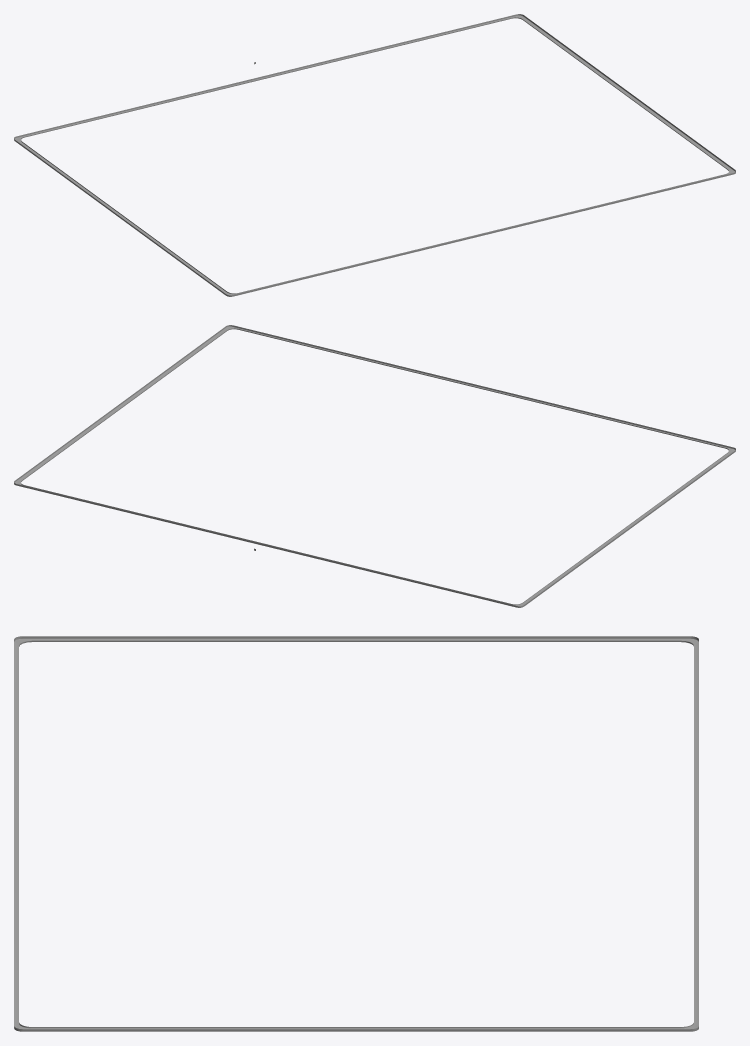
Rendered from LidMeshLaptopLid_2_0_GeomSubset_1.obj.
3 views of the same model, one above another, from view 1: azimuth 30°, elevation 25°; view 2: azimuth 150°, elevation 25°; view 3: azimuth 270°, elevation 25° (orthographic). The views are drawn at different scales.
Parts seen in each view (by area): view 1: LidMeshLaptopLid_2_0_GeomSubset_1; view 2: LidMeshLaptopLid_2_0_GeomSubset_1; view 3: LidMeshLaptopLid_2_0_GeomSubset_1.
Boxes of the visible parts, <box> form: LidMeshLaptopLid_2_0_GeomSubset_1: <box>14,14,735,296</box>; LidMeshLaptopLid_2_0_GeomSubset_1: <box>14,325,735,607</box>; LidMeshLaptopLid_2_0_GeomSubset_1: <box>14,636,698,1031</box>.
Size of the model in its own units: 0.3397 by 0.00407 by 0.2638.
